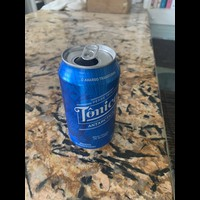tonica: (53, 44, 119, 150)
